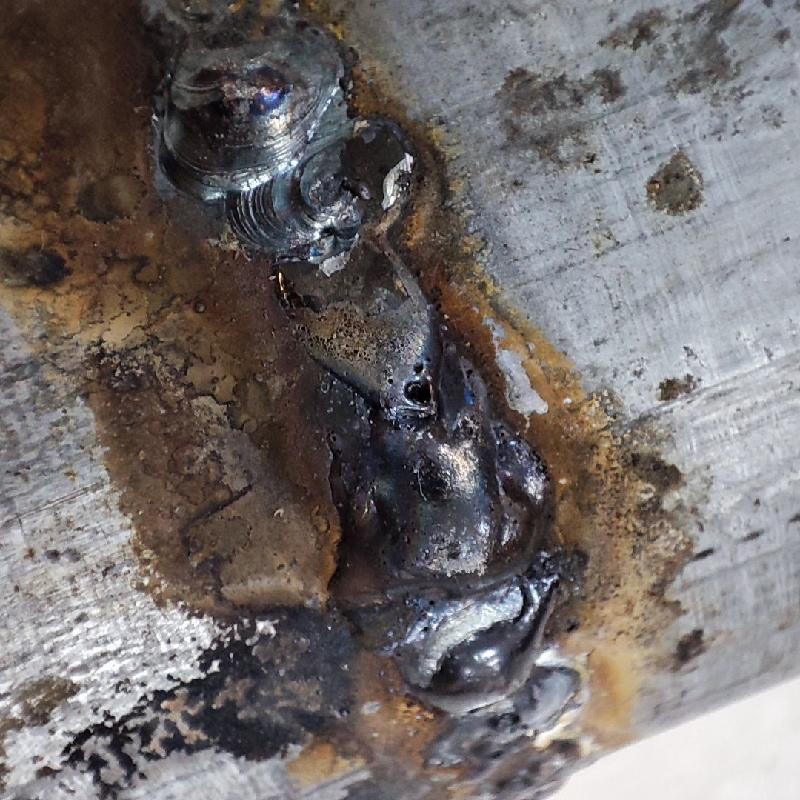Not_fully_soldered: (213, 183, 438, 420), (446, 702, 583, 794)
Surface_pores: (377, 345, 443, 417)
Weld: (311, 416, 564, 715)
wrong_size: (123, 1, 343, 191)
